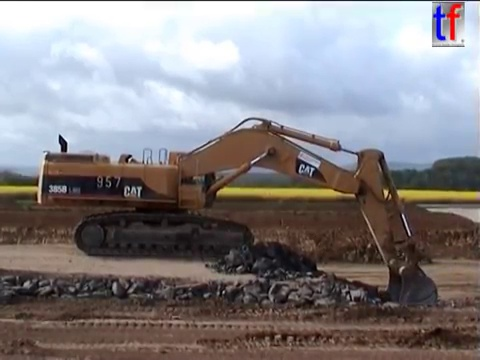excavator: (33, 114, 441, 323)
